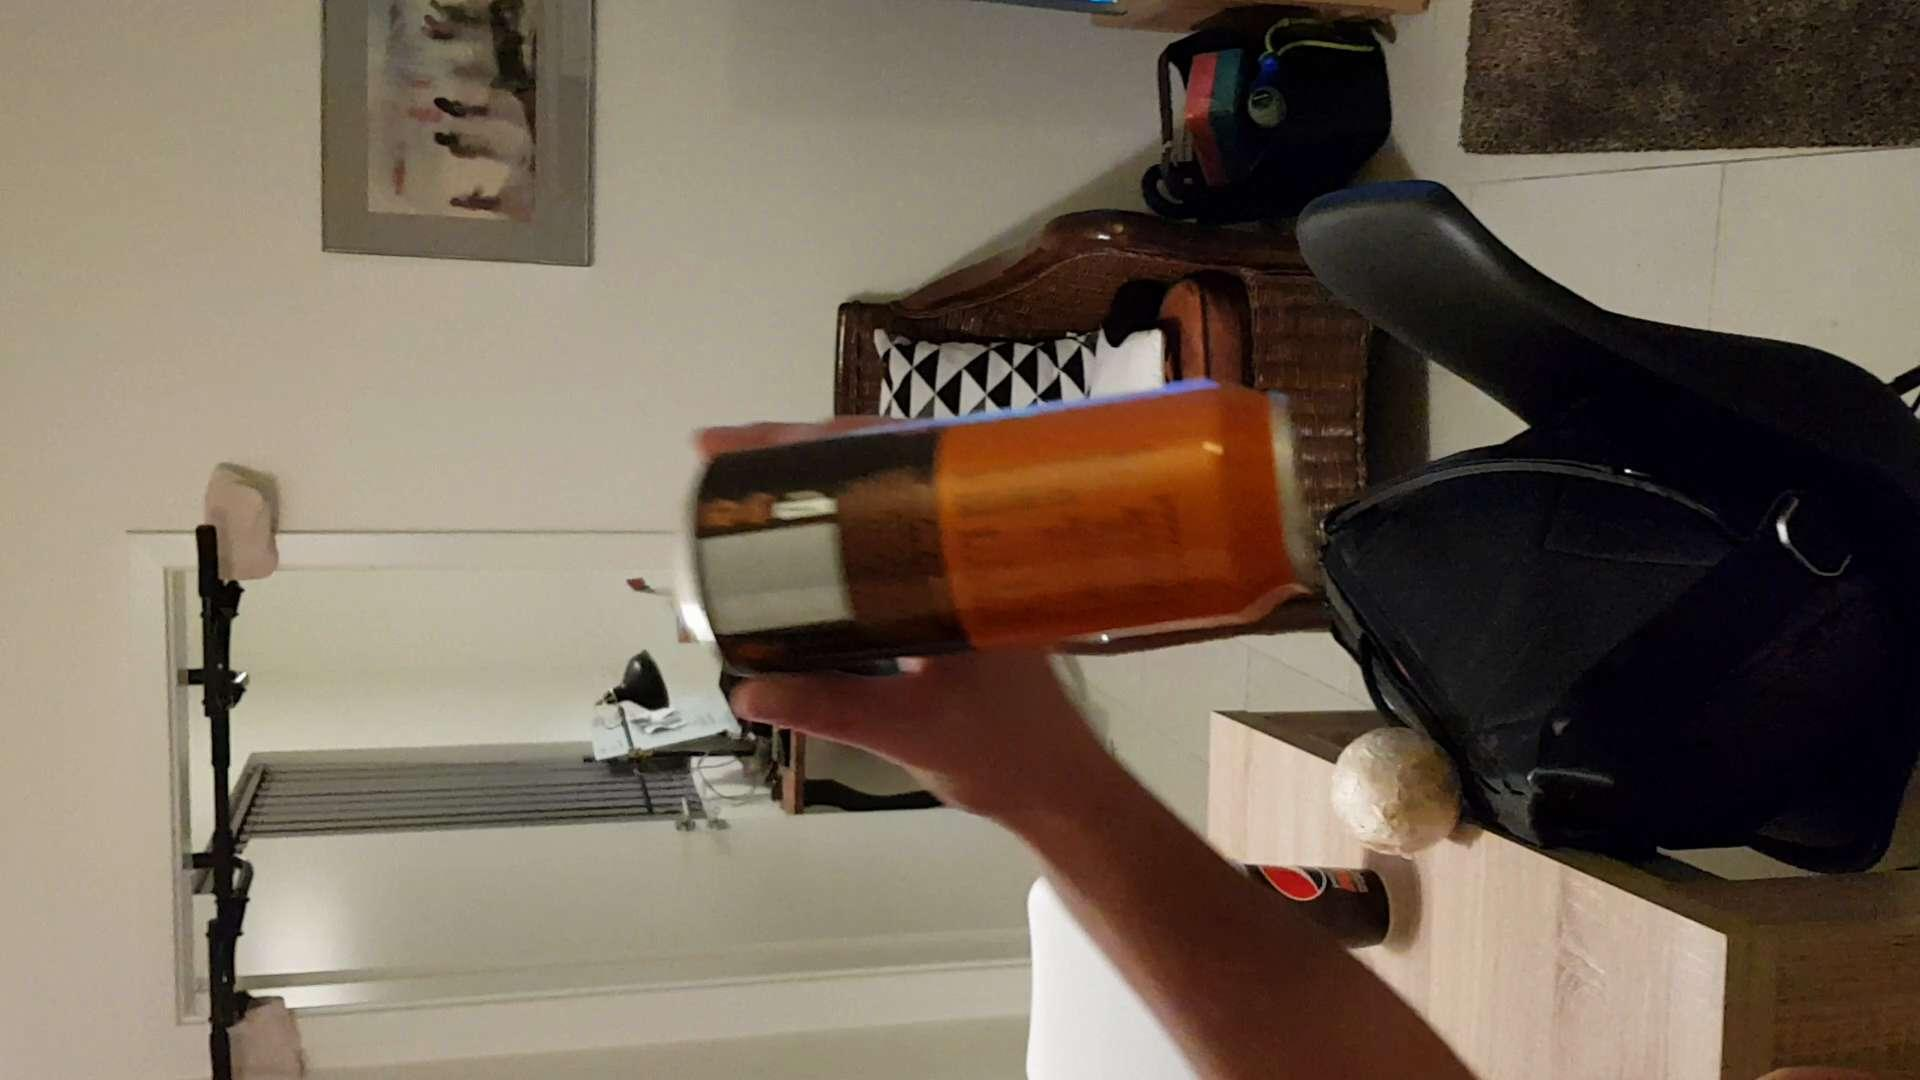Can: (673, 373, 1305, 680)
